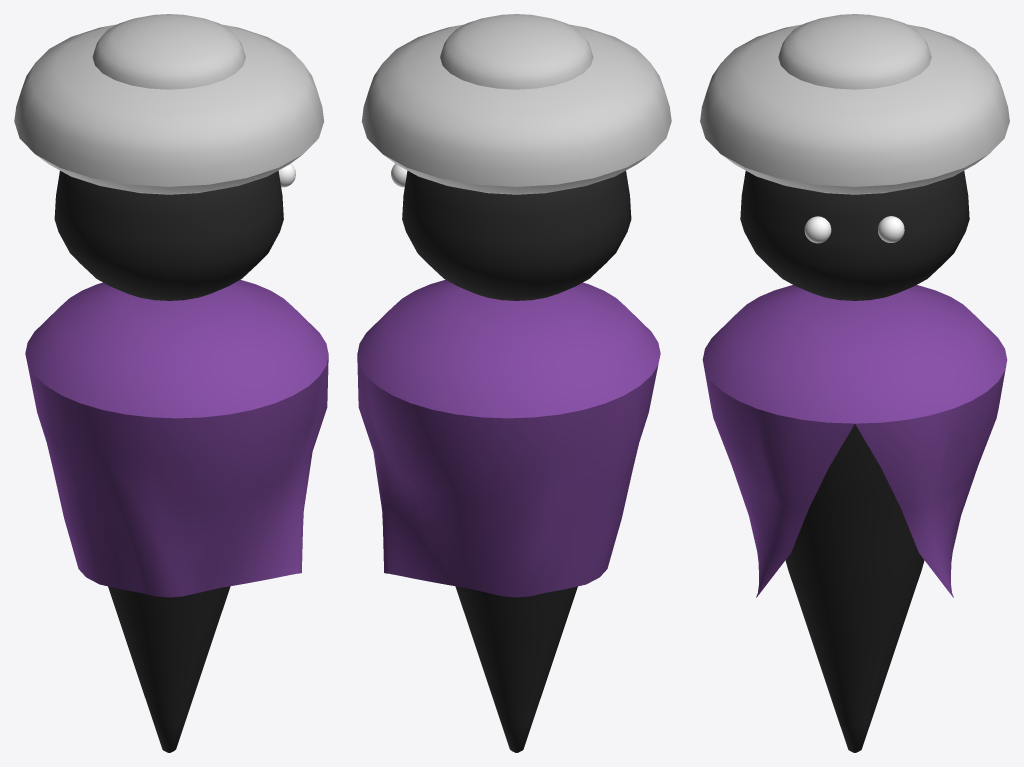
The model's file is pelerins_fun.fbx.
3 renders of one model, left to right at view 1: azimuth 30°, elevation 25°; view 2: azimuth 150°, elevation 25°; view 3: azimuth 270°, elevation 25°, orthographic.
Parts seen in each view (by area): view 1: Cône, Sphère, Sphère_2, Cône_2, Sphère_1; view 2: Cône, Sphère, Sphère_2, Cône_2, Sphère_1; view 3: Cône, Sphère, Cône_2, Sphère_2, Sphère_1, pSphere11, pSphere10.
Part boxes in pixels (x1,y1,x2,y2): Cône: (25,280,328,597); Sphère: (14,24,324,194); Sphère_2: (54,170,283,300); Cône_2: (108,586,230,752); Sphère_1: (92,14,245,89); Cône: (357,280,660,597); Sphère: (361,24,671,194); Sphère_2: (402,170,631,300); Cône_2: (455,586,577,752); Sphère_1: (440,14,593,89); Cône: (702,285,1007,597); Sphère: (700,24,1009,194); Cône_2: (785,424,924,752); Sphère_2: (740,171,969,300); Sphère_1: (778,14,931,89); pSphere11: (804,216,831,243); pSphere10: (878,216,904,242).
Size of the model in its own units: 2.12 by 5.35 by 2.08.
